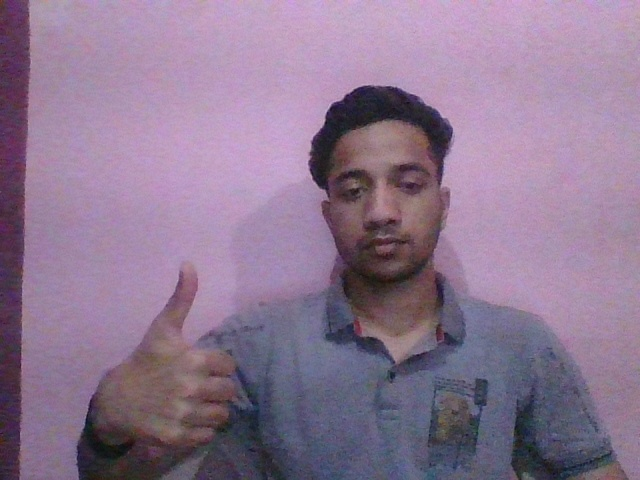thumbsup: (108, 263, 236, 455)
